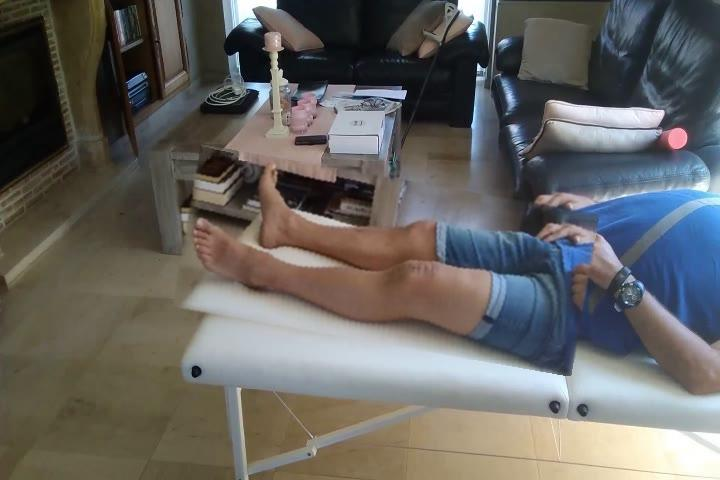lowerbody: (179, 162, 594, 361)
